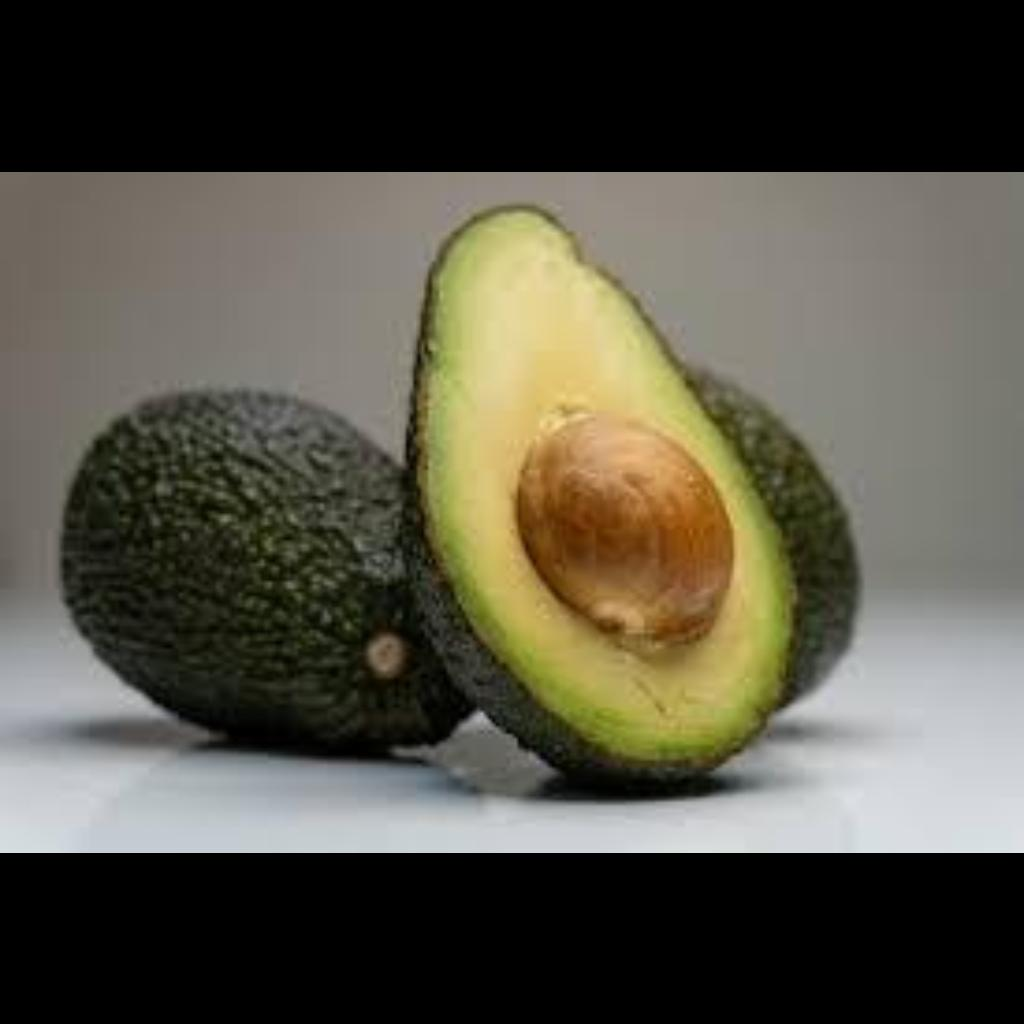antracnosis_fruto: (41, 405, 436, 707)
